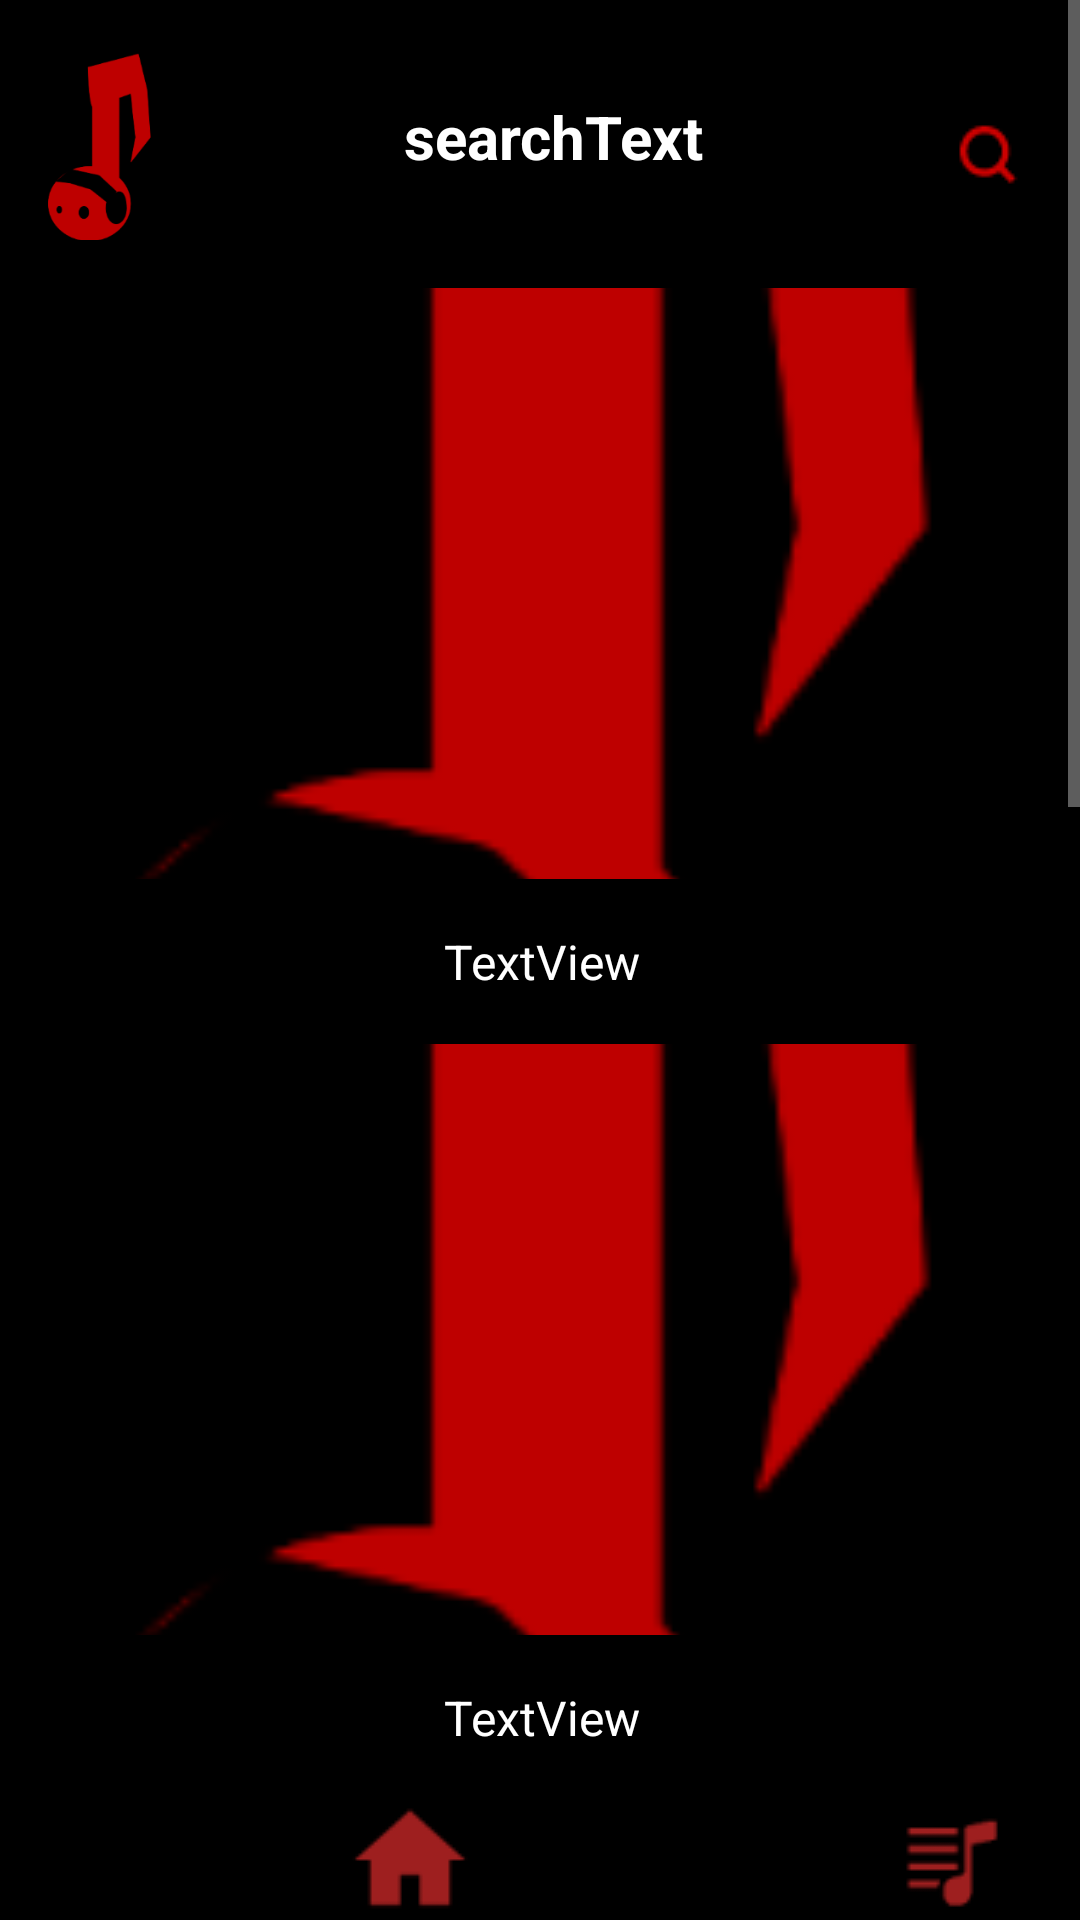

Named icons in this screenshot (1080*1920) and their centers, (x,y):
playlist: (952,1863)
search: (988,154)
